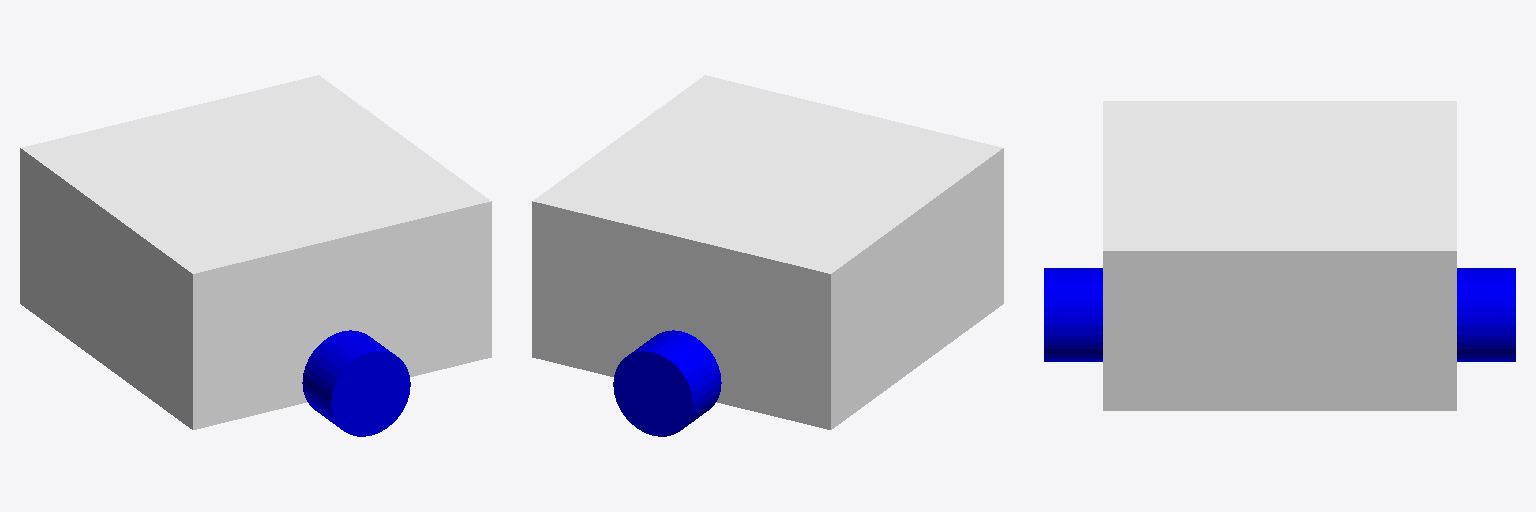
robot.urdf — pi:
<?xml version="1.0"?>

<robot name="pi">

    <!-- Grey material with RGBA color (0.7, 0.7, 0.7, 1) -->
    <material name="grey">
        <color rgba="0.7 0.7 0.7 1"/>
    </material>

    <!-- Green material with RGBA color (0, 0.6, 0, 1) -->
    <material name="green">
        <color rgba="0 0.6 0 1"/>
    </material>

    <!-- White material with transparent RGBA color (0, 0, 0, 0) -->
    <material name="white">
        <color rgba="1 1 1 1"/>
    </material>

    <!-- Blue material with RGBA color (0, 0, 1, 1) -->
    <material name="blue">
        <color rgba="0 0 1 1"/>
    </material>

    <!-- Red material with RGBA color (1, 0, 0, 1) -->
    <material name="red">
        <color rgba="1 0 0 1"/>
    </material>

    <!-- Yellow material with RGBA color (1, 1, 0, 1) -->
    <material name="yellow">
        <color rgba="1 1 0 1"/>
    </material>

    <!-- Chassis link -->
    <link name="base_link"></link>

    <link name="chassis">
        <visual>
            <geometry>
                <box size="0.3 0.3 0.15"/>
            </geometry>
            <material name="white"/>
            <origin xyz="0 0 0" rpy="0 0 0"/>
        </visual>
    </link>
    
    <joint name="base_chassis_joint" type="fixed">
        <parent link="base_link"/>
        <child link="chassis"/>
        <origin xyz="0 0 0.095" rpy="0 0 0"/>
    </joint>

    <!-- Left wheel link -->
    <link name="left_wheel_link">
        <visual>
            <geometry>
                <cylinder length="0.05" radius="0.04"/>
            </geometry>
            <material name="blue"/>
        </visual>
    </link>

    <joint name="chassis_leftwheel_joint" type="continuous">
        <parent link="base_link"/>
        <child link="left_wheel_link"/>
        <origin xyz="0 0.175 0.04" rpy="-1.5708 0 0"/> <!-- Use radians for angles, pi/2 is equal to 1.5708 radians -->
        <axis xyz="0 0 1"/>
    </joint>

    <!-- Right wheel link -->
    <link name="right_wheel_link">
        <visual>
            <geometry>
                <cylinder length="0.05" radius="0.04"/>
            </geometry>
            <material name="blue"/>
        </visual>
    </link>

    <joint name="chassis_rightwheel_joint" type="continuous">
        <parent link="base_link"/>
        <child link="right_wheel_link"/>
        <origin xyz="0 -0.175 0.04" rpy="1.5708 0 0"/> <!-- Use radians for angles, pi/2 is equal to 1.5708 radians -->
        <axis xyz="0 0 1"/>
    </joint>

    <link name="front_castor">
        <visual>
            <geometry>
                <sphere radius ="0.02"/>
            </geometry>
            <material name="white"/>
        </visual>
    </link>

    <joint name="front_castor_joint" type ="fixed">
        <parent link="chassis"/>
        <child link="front_castor"/>
        <origin xyz = "0.10 0 -0.075" />
    </joint>

    <link name="rear_castor">
        <visual>
            <geometry>
                <sphere radius ="0.02"/>
            </geometry>
            <material name="white"/>
        </visual>
    </link>

    <joint name="rear_castor_joint" type ="fixed">
        <parent link="chassis"/>
        <child link="rear_castor"/>
        <origin xyz = "-0.10 0 -0.075" />
    </joint>

    <!-- Lidar link -->
    <!-- <link name="lidar">
        <visual>
            <geometry>
                <cylinder length="0.05" radius="0.1"/>
            </geometry>
            <origin xyz="0 0 0" rpy="0 0 0"/>
            <material name="white"/>
        </visual>
    </link> -->

</robot>

--- What the picture shows (computed from the rendered views, not written in the file) ---
Views: 3 orthographic renders of the robot side by side, from view 1: azimuth 30°, elevation 25°; view 2: azimuth 150°, elevation 25°; view 3: azimuth 270°, elevation 25°.
Robot: pi — 6 links, 5 joints (2 continuous, 3 fixed); root link base_link; default pose: all joints at 0.
Visible links, largest first — view 1: chassis, right_wheel_link; view 2: chassis, left_wheel_link; view 3: chassis, left_wheel_link, right_wheel_link.
Boxes of the visible links, left/top/right/bottom form: chassis: left=20, top=75, right=491, bottom=429; right_wheel_link: left=302, top=330, right=410, bottom=436; chassis: left=532, top=75, right=1003, bottom=429; left_wheel_link: left=613, top=330, right=721, bottom=436; chassis: left=1103, top=101, right=1456, bottom=410; left_wheel_link: left=1457, top=268, right=1515, bottom=361; right_wheel_link: left=1044, top=268, right=1102, bottom=361.
Bounding box of the posed robot: 0.3 × 0.4 × 0.17 m (x, y, z).
Geometry: primitives only (box / cylinder / sphere), no mesh files.